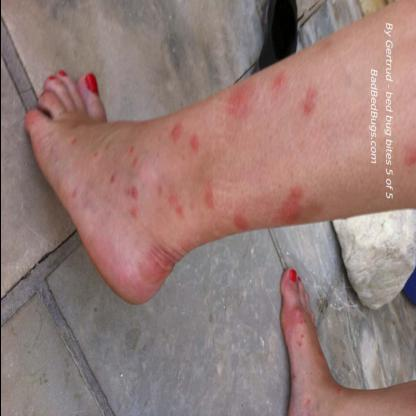Bed Bug: (270, 181, 320, 225), (156, 180, 186, 224), (225, 81, 255, 125), (266, 66, 289, 106), (286, 306, 306, 348), (300, 82, 320, 121), (127, 181, 142, 219), (201, 182, 215, 218), (228, 209, 252, 230), (402, 143, 416, 177), (92, 137, 110, 163), (168, 119, 184, 146), (188, 128, 202, 158), (127, 144, 140, 168), (68, 132, 82, 151), (105, 171, 119, 188), (68, 185, 82, 199), (335, 384, 347, 398), (303, 392, 313, 408), (318, 345, 324, 363), (292, 372, 301, 383)
